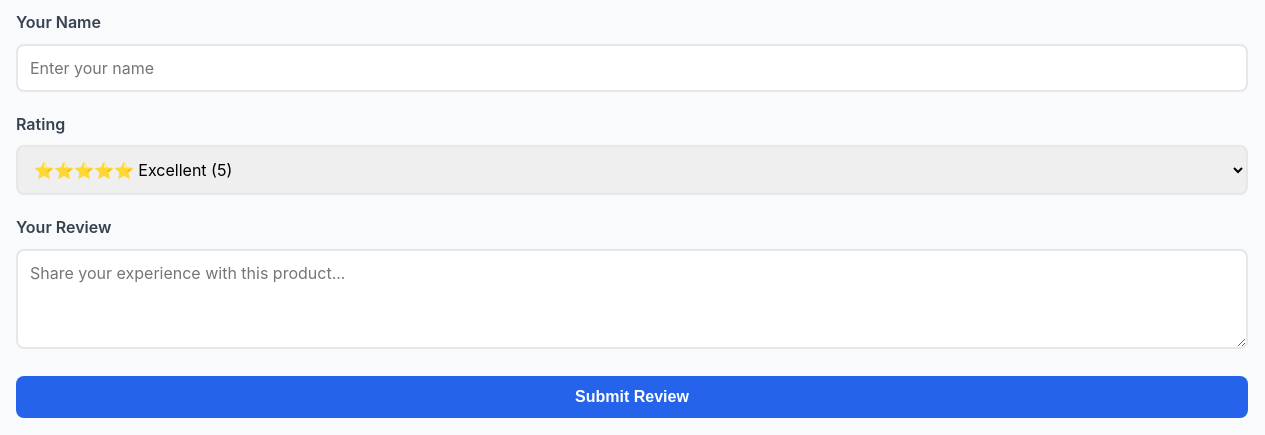
Test: ReviewForm › disables form during submission
The width and height of the screenshot is (1265, 435).
In the field labelled "Your Name": [632, 68] box [16,44,1248,92], type "John Doe"
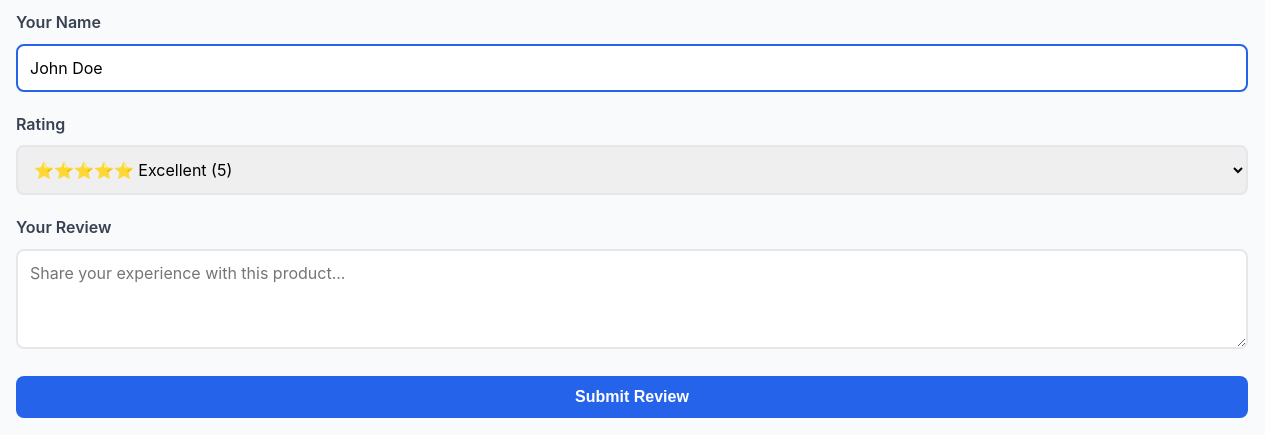
In the text box labelled "Your Review": [632, 299] box [16,249,1248,349], type "Great product!"
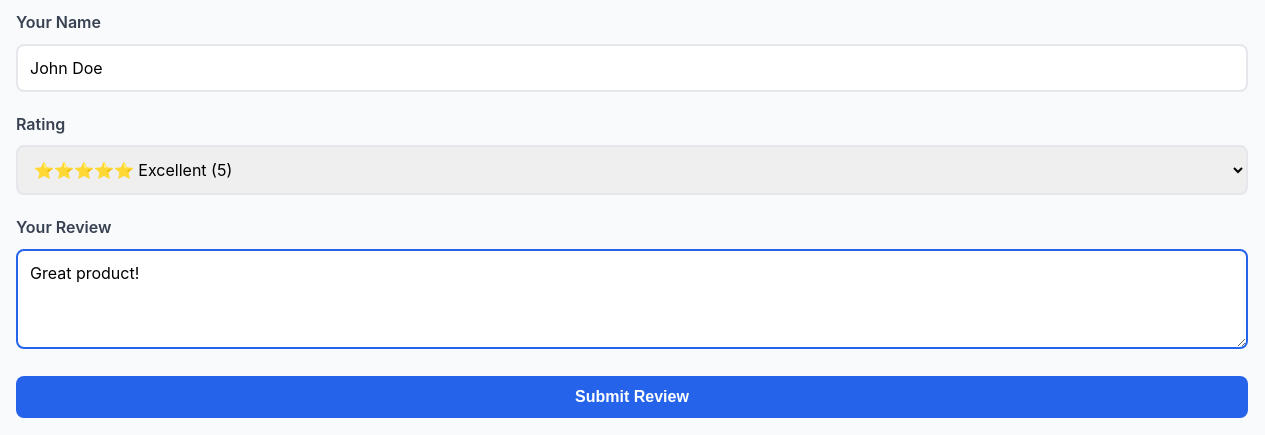
Click the button "Submit Review": [632, 397] box [16,376,1248,418]
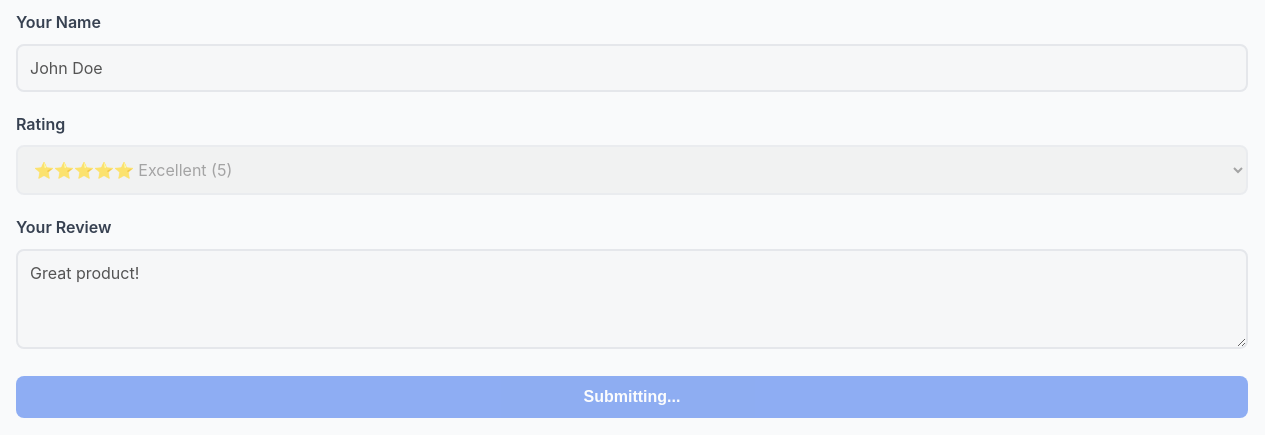
Expected: the button named "submit review" is disabled, [16,376,1248,418]
Expected: the field labelled "Your Name" is disabled, [16,44,1248,92]
